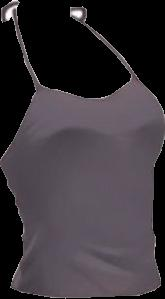Bodice: (0, 77, 164, 297)
Neckline: (38, 75, 136, 100)
Waistline: (10, 281, 163, 298)
